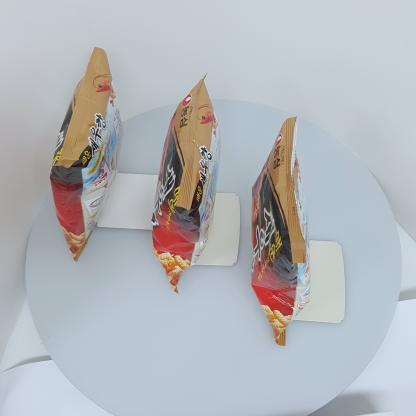Plastic Packaging: (44, 41, 128, 258), (149, 76, 219, 294), (249, 119, 309, 347)
